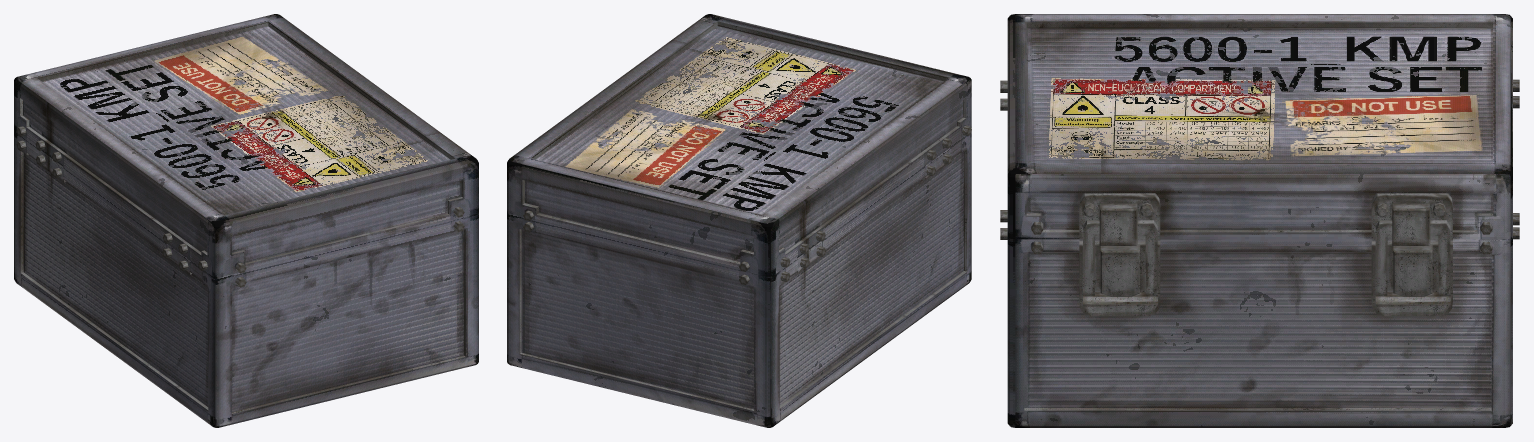
Rendered from mp_item briefcase test1.glb.
The picture shows the model from 3 angles, left to right: view 1: azimuth 30°, elevation 25°; view 2: azimuth 150°, elevation 25°; view 3: azimuth 270°, elevation 25°; orthographic projection. The views are drawn at different scales.
Visible parts, largest first — view 1: Cube_025, Cube_021; view 2: Cube_025, Cube_021; view 3: Cube_025, Cube_021, Cube_023, Cube_024, Cube_026, Cube_027, Cube_020, Cube_022.
Boxes of the visible parts, bbox=[...] form: Cube_025: bbox=[14, 14, 478, 276]; Cube_021: bbox=[14, 129, 478, 427]; Cube_025: bbox=[507, 14, 971, 276]; Cube_021: bbox=[507, 131, 971, 427]; Cube_025: bbox=[1000, 14, 1519, 239]; Cube_021: bbox=[1000, 96, 1519, 427]; Cube_023: bbox=[1375, 220, 1450, 316]; Cube_024: bbox=[1083, 220, 1157, 316]; Cube_026: bbox=[1079, 193, 1160, 245]; Cube_027: bbox=[1371, 193, 1452, 245]; Cube_020: bbox=[1371, 241, 1452, 314]; Cube_022: bbox=[1079, 241, 1160, 314].
Bounding box in the file's own units: 2.72 × 1.84 × 3.37.
4 materials, 3 textured.
